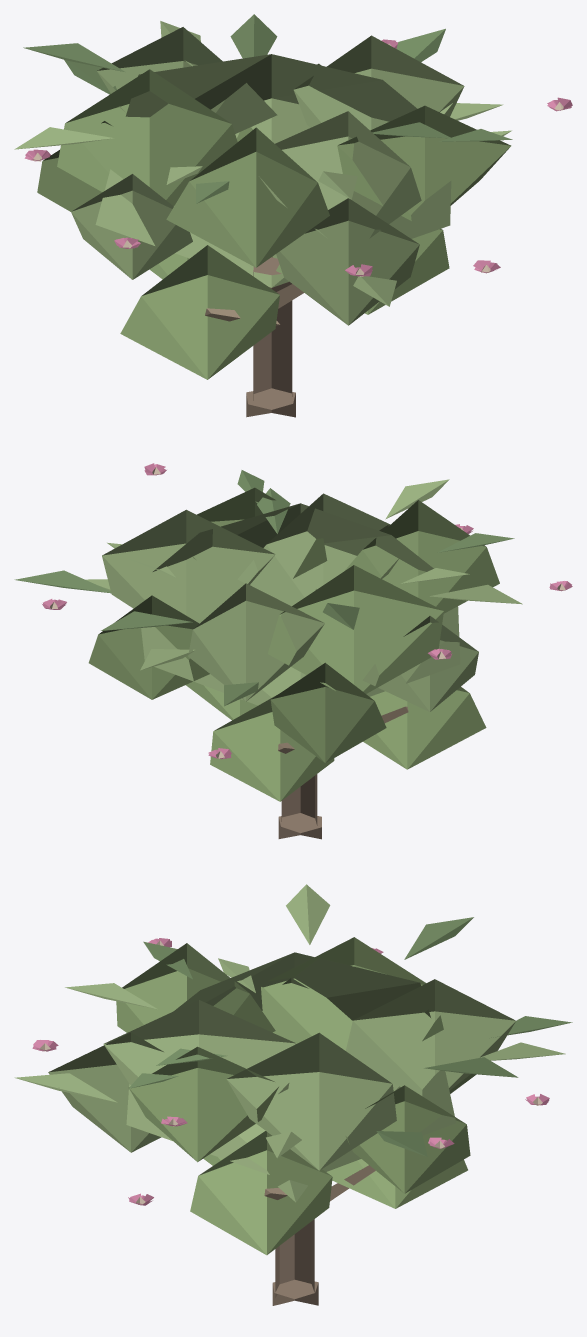
Rendered from shu.chuilui@flowering__summer.glb.
3 views of the same model, one above another, from view 1: azimuth 30°, elevation 25°; view 2: azimuth 150°, elevation 25°; view 3: azimuth 270°, elevation 25° (orthographic). The views are drawn at different scales.
Parts seen in each view (by area): view 1: shu.chuilui@flowering__summer; view 2: shu.chuilui@flowering__summer; view 3: shu.chuilui@flowering__summer.
Boxes of the visible parts, x1,y1,x2,y2 form: shu.chuilui@flowering__summer: (14, 14, 572, 417); shu.chuilui@flowering__summer: (14, 463, 572, 839); shu.chuilui@flowering__summer: (14, 884, 572, 1305).
Bounding box in the file's own units: 15.32 × 10.49 × 15.84.
